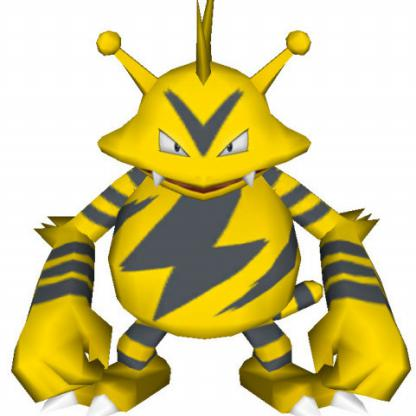Electabuzz: (1, 3, 415, 416)
